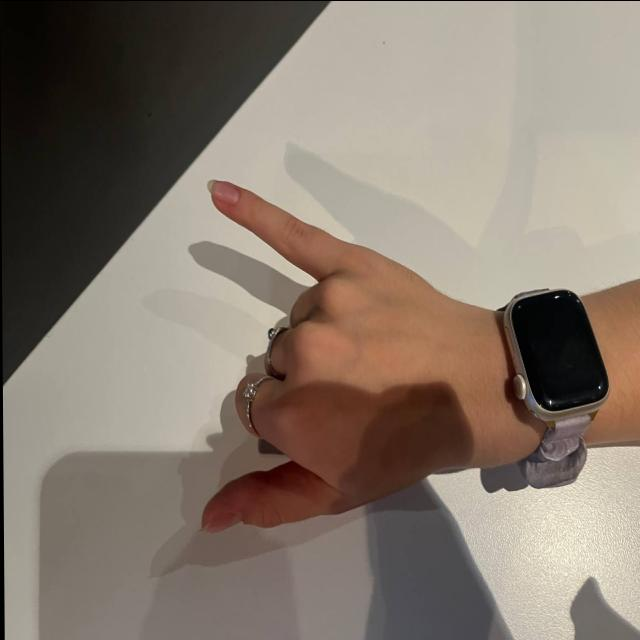u: (161, 148, 421, 542)
